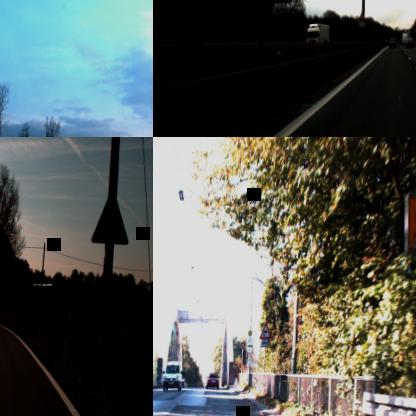SNOW: (90, 187, 131, 244)
slippery road: (259, 320, 271, 338)
uneven road: (358, 10, 366, 20)
